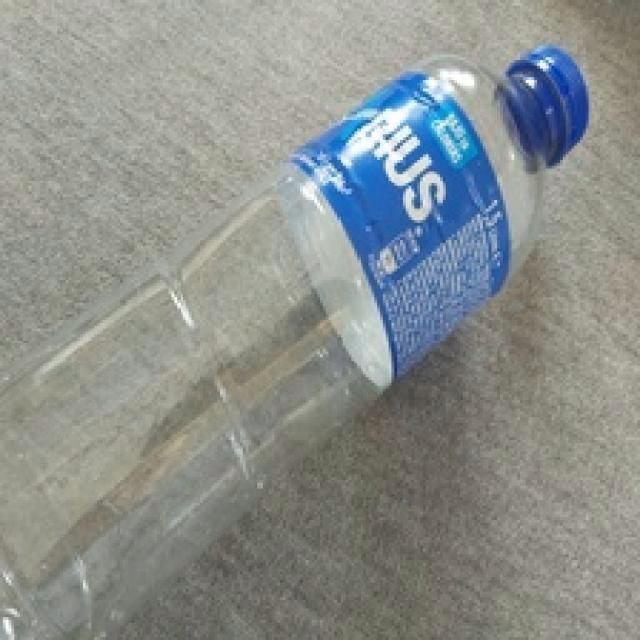bottle: (1, 44, 592, 640)
